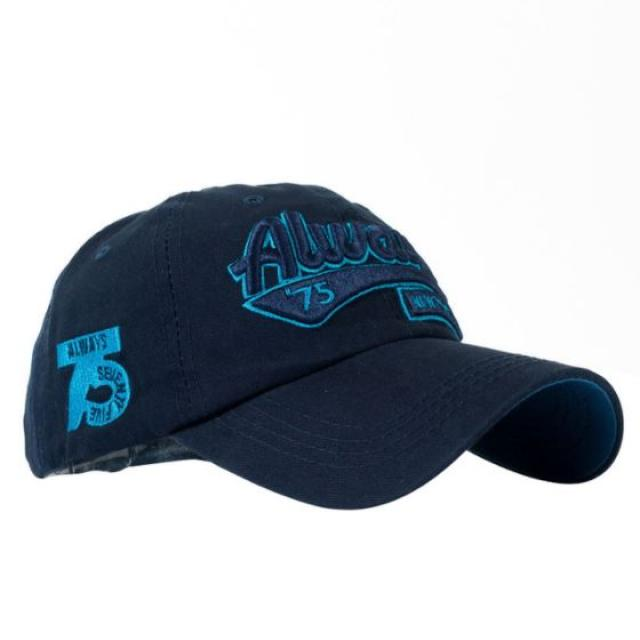no_helmet: (13, 165, 634, 524)
